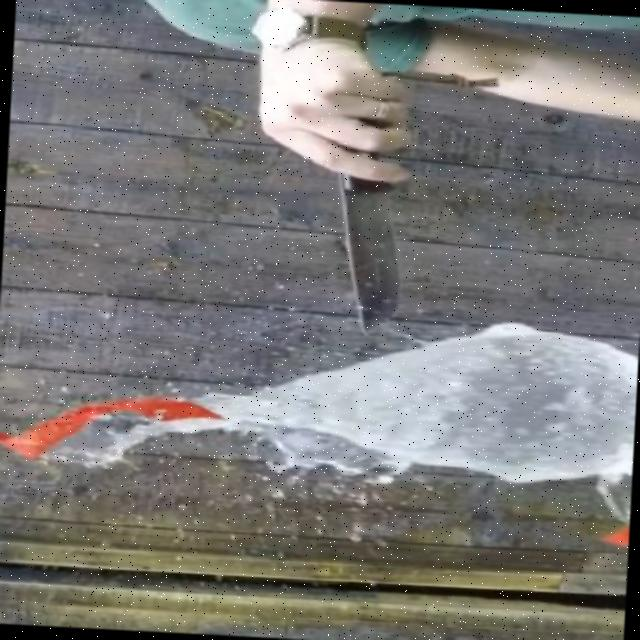Knife: (328, 118, 416, 342)
